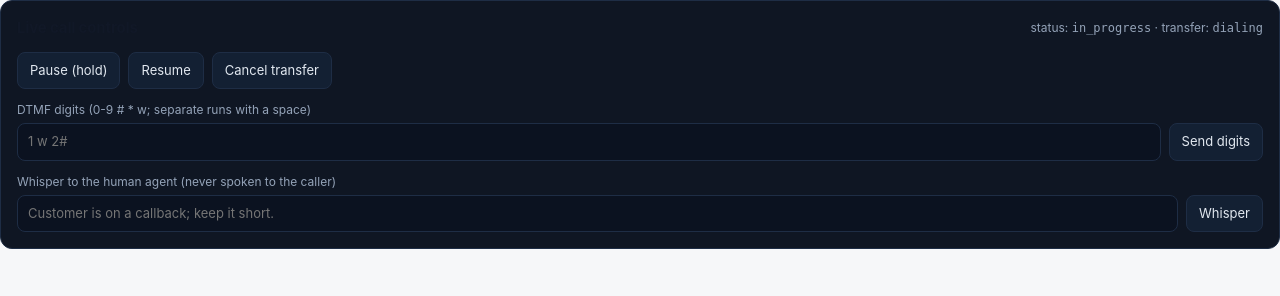
Test: CallControlBar › shows the sanitized whisper text the server says it delivered
Type "Customer is on a callback." into the field with test id "call-control-whisper-input" at (598, 213), box [17,194,1178,232]
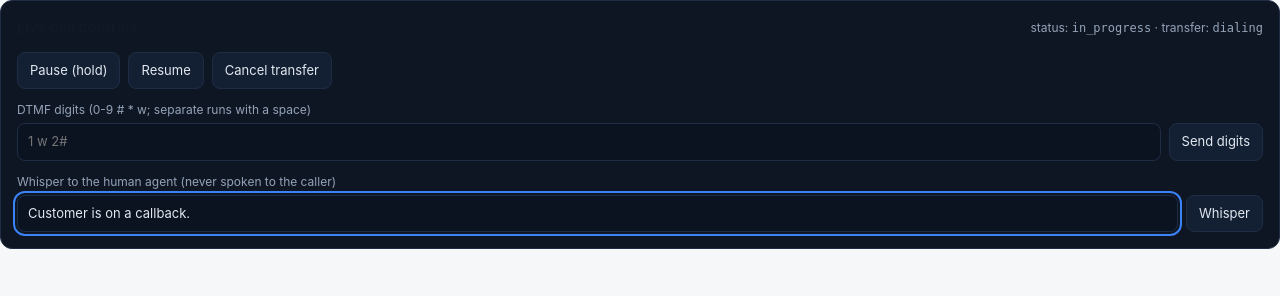
Click the button with test id "call-control-whisper-send" at (1224, 213), box [1186,194,1263,232]
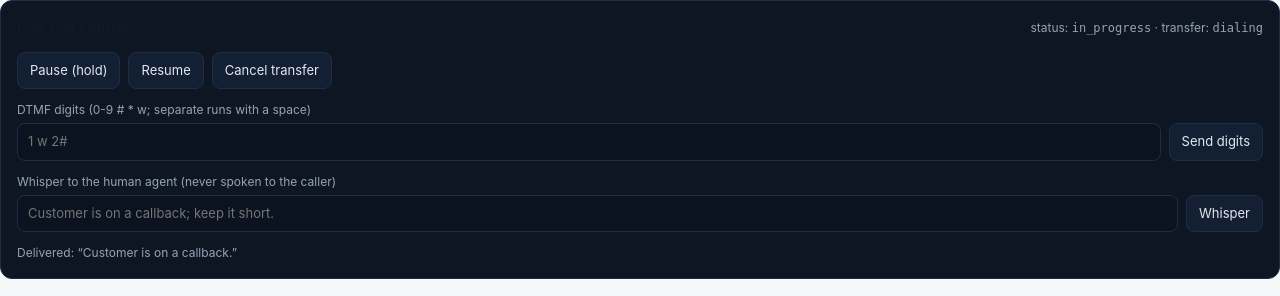
Expected: the text with test id "call-control-whisper-result" shows "Customer is on a callback.", [83,245,232,260]
